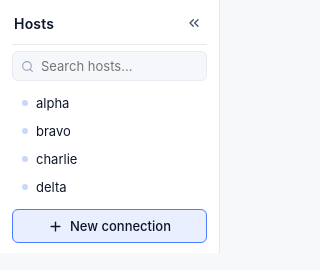
Test: Drawer multi-select › Escape puts the drawer back the way it was
Type keys "{Control>}"
Click the button "bravo": (94,131) [14,117,175,145]
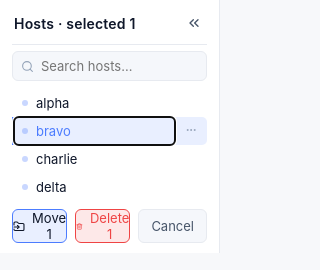
Type keys "{/Control}"
Expected: the button "Delete 1" is shown, [75,209,130,243]
Press Escape
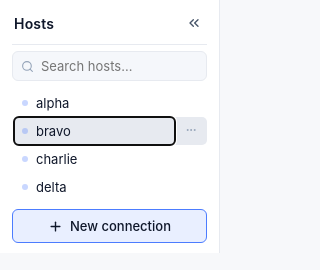
Expected: the button "New connection" is shown, [12,209,207,243]
